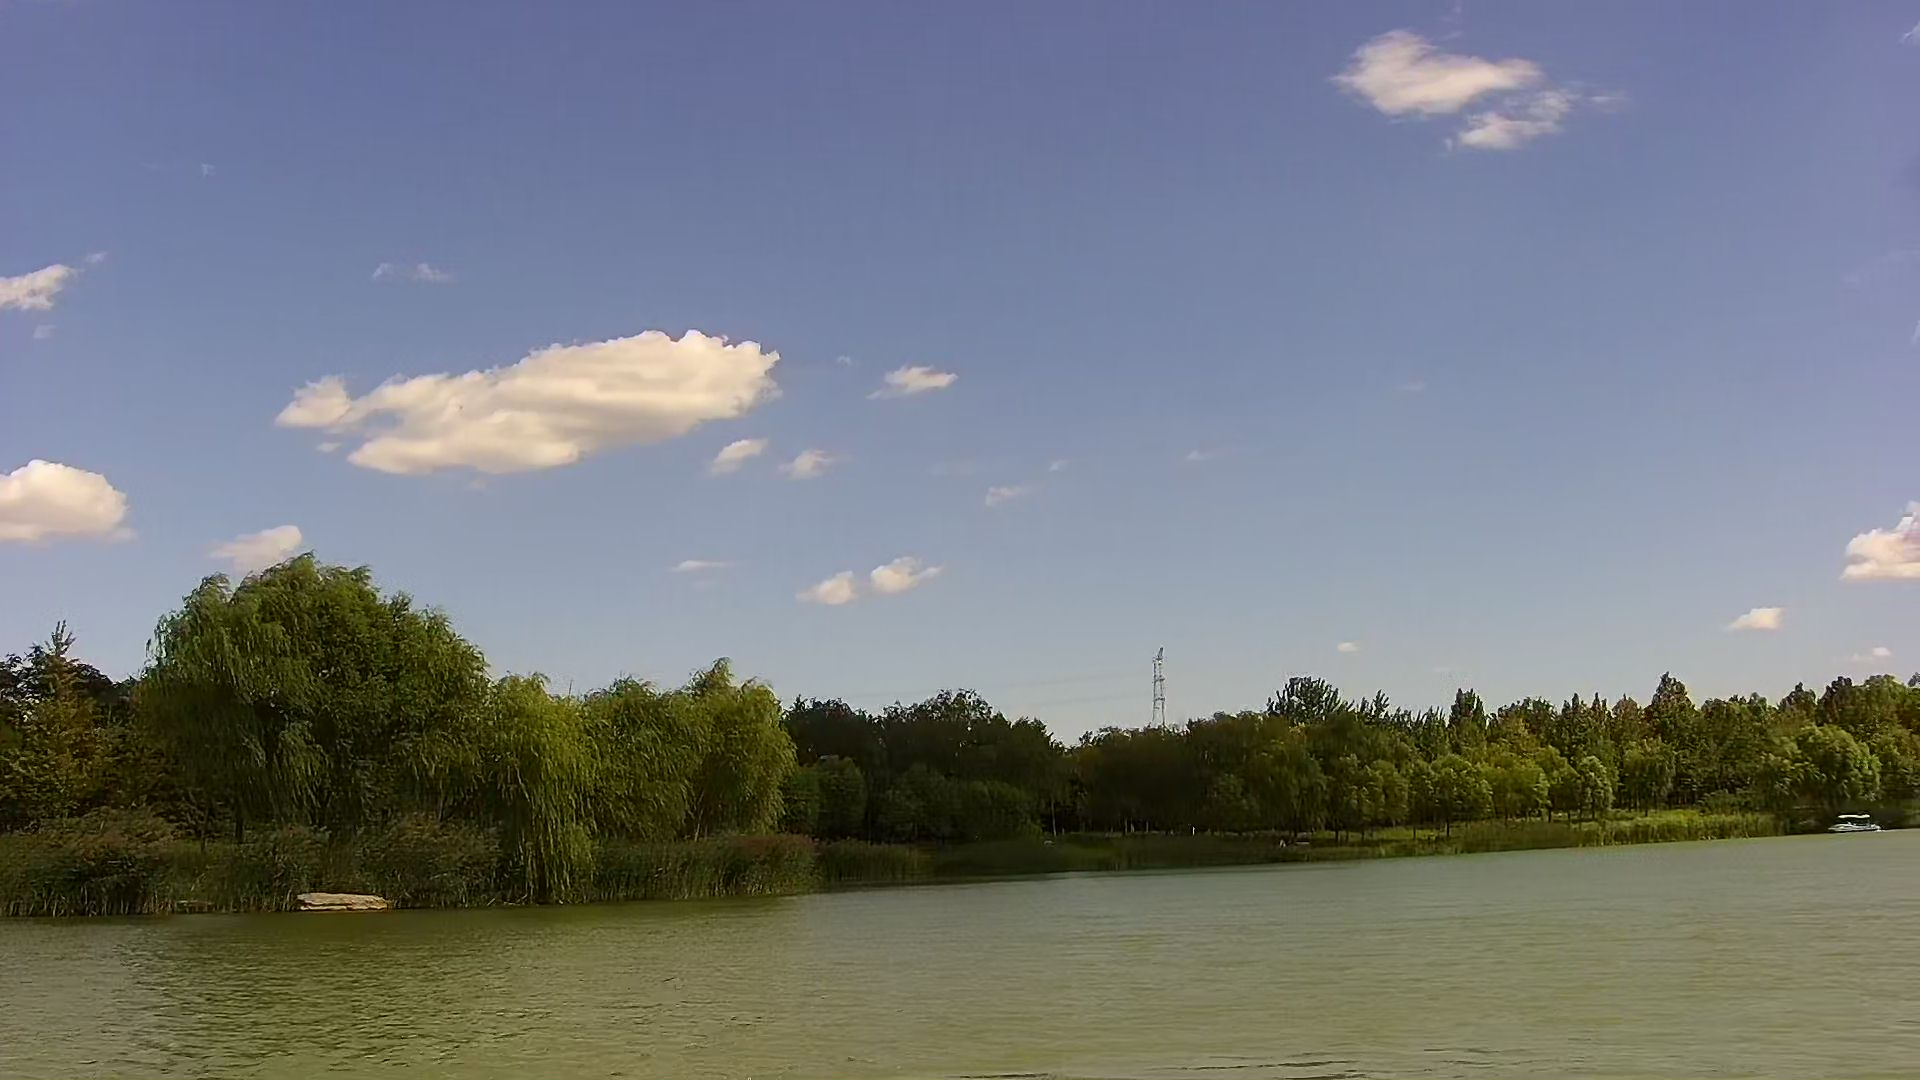boat: (1824, 814, 1883, 836)
